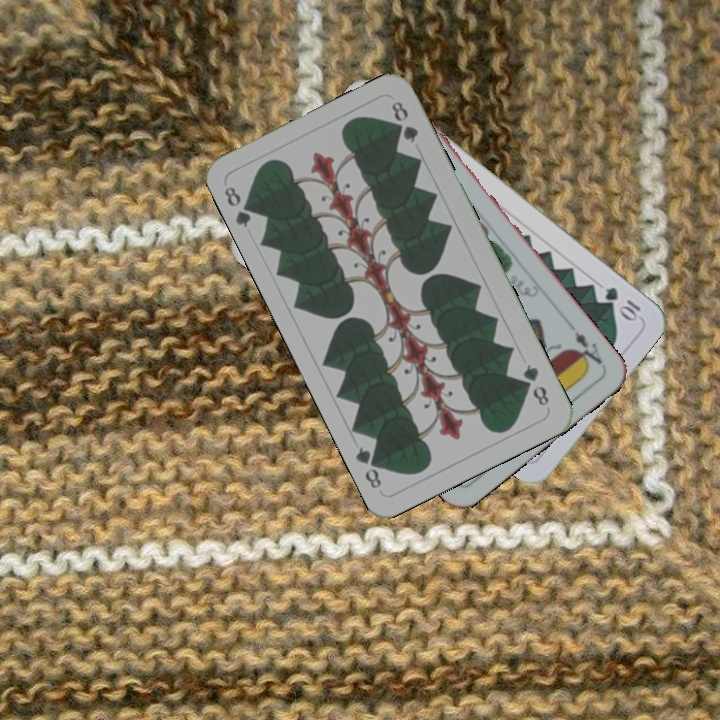EA: (570, 327, 605, 371)
G10: (600, 282, 644, 323)
G8: (220, 182, 259, 231), (518, 360, 552, 409)
